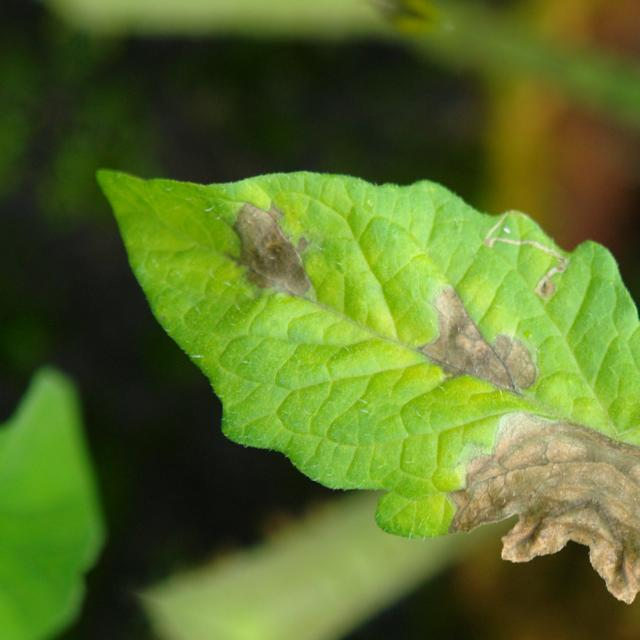Tomato leaf late blight: (0, 55, 640, 603)
